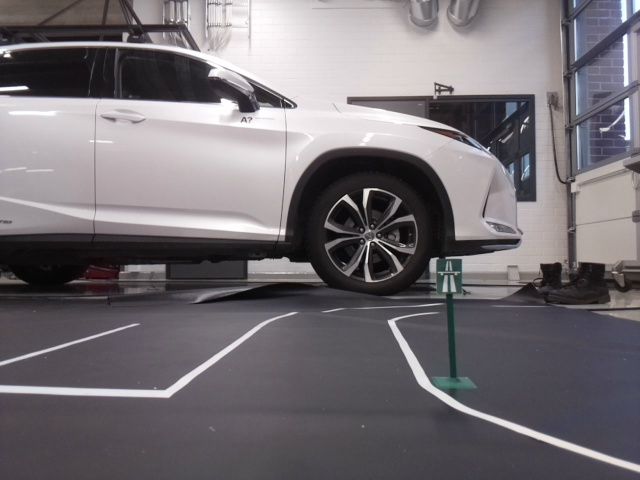HighwayEntrance: (436, 258, 461, 292)
